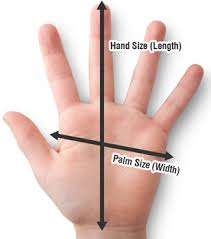hand: (4, 2, 205, 231)
